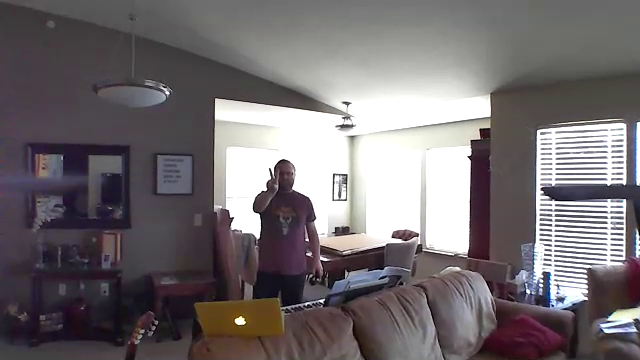peace: (265, 164, 283, 198)
